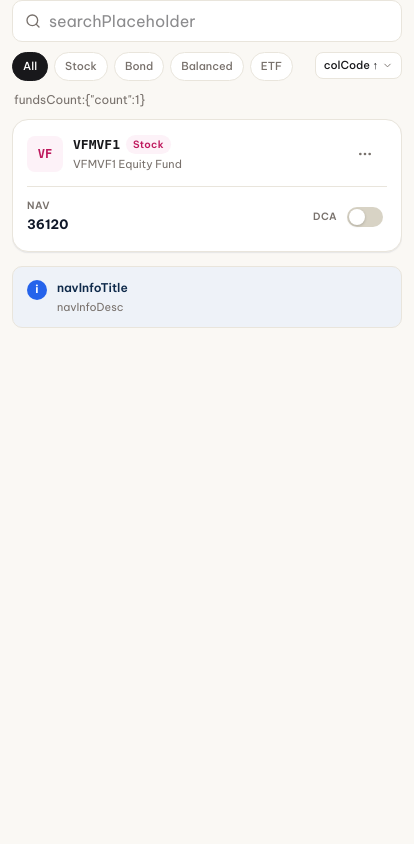
MobileFundLibraryView — edit/delete menu › closes on a tap outside it
Click the button named "fundActions": coordinates (365, 154) 343,132 -> 387,176
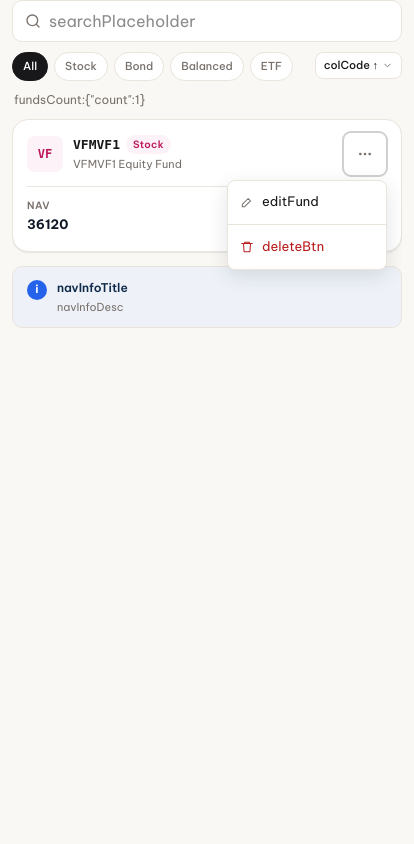
Click the element with test id "fund-menu-backdrop": coordinates (207, 422) 12,0 -> 402,843
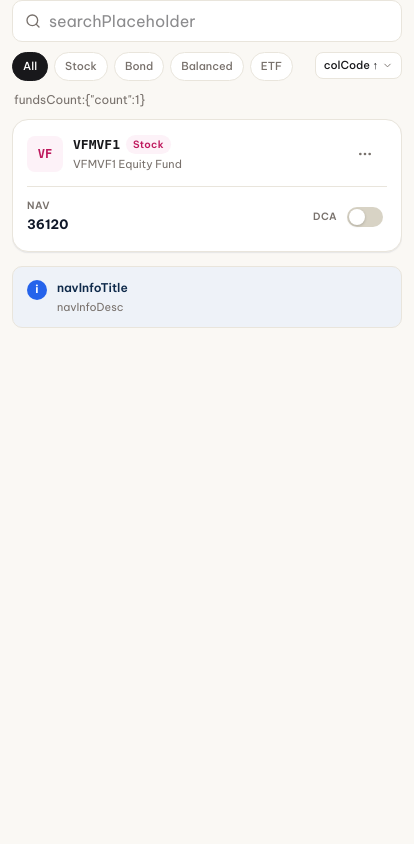
Now the menu is gone
